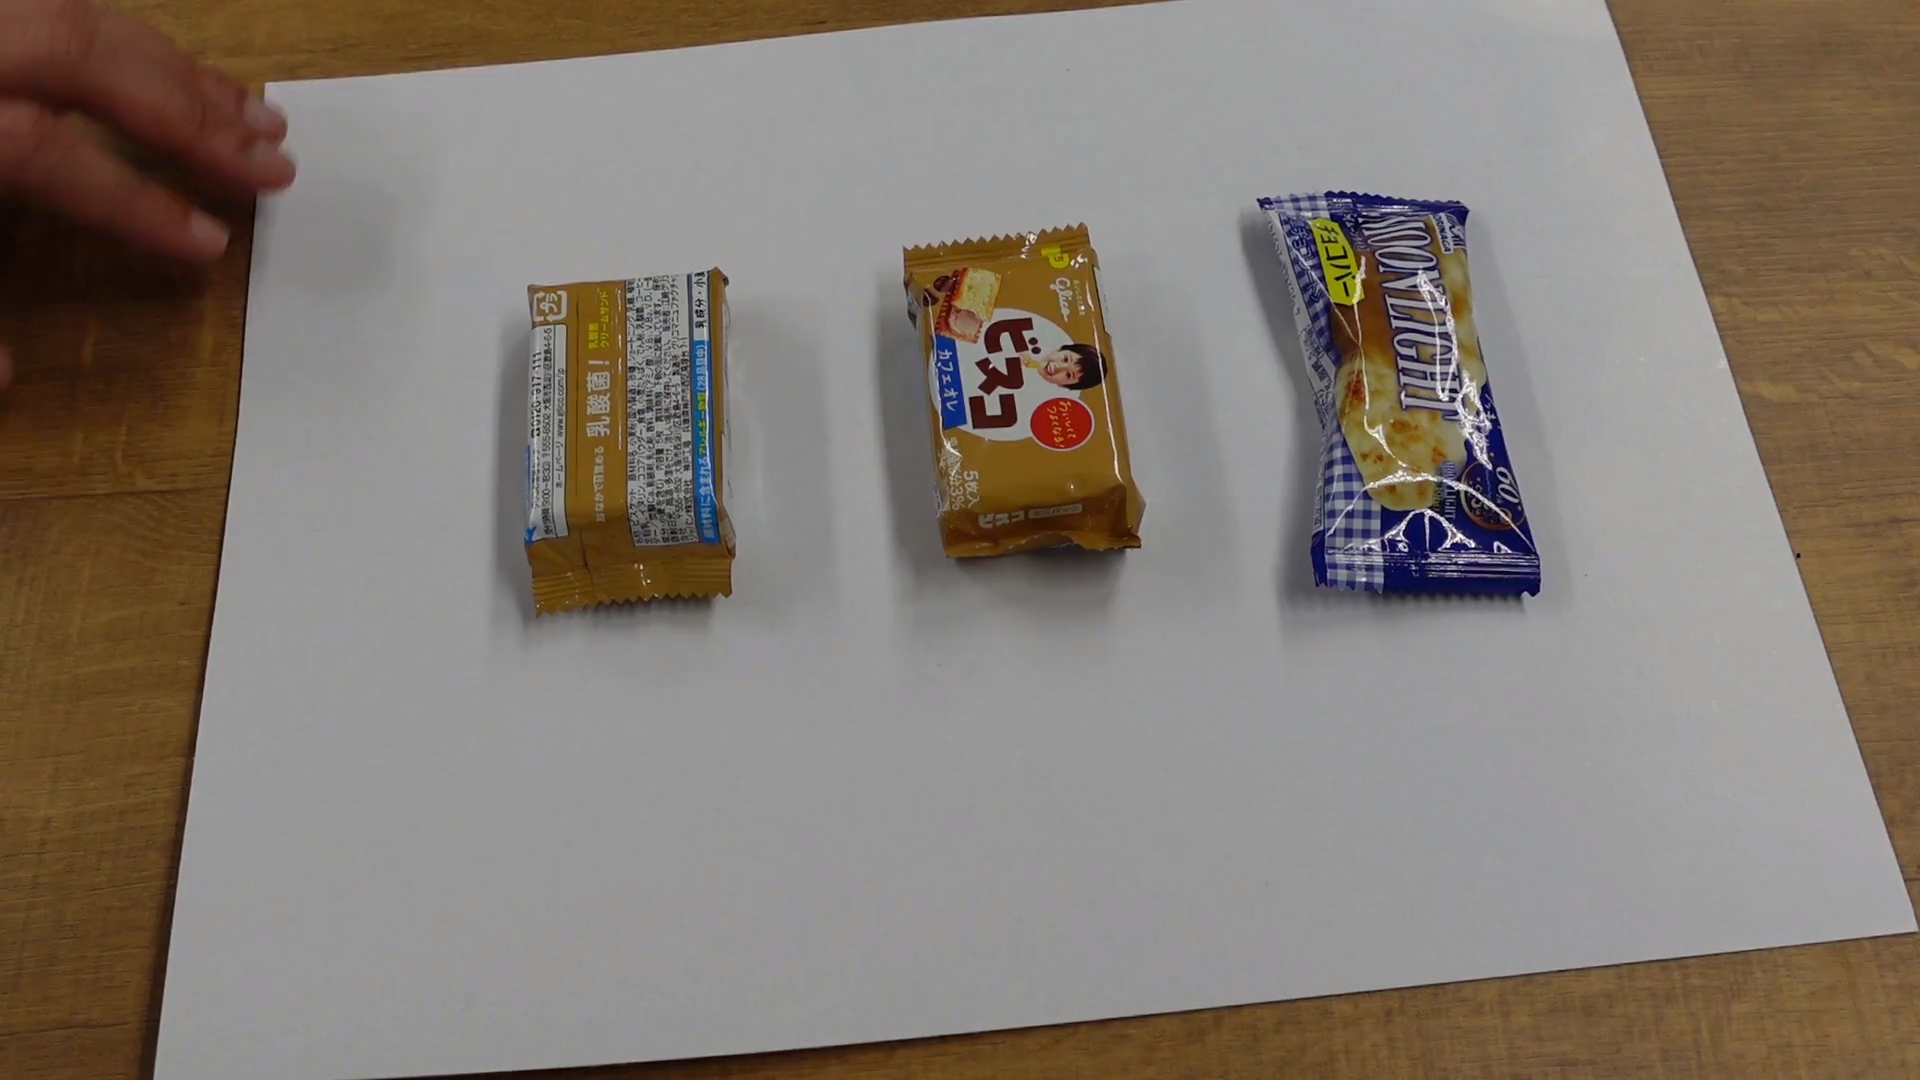BISCO_CafeAuLet: (905, 225, 1145, 555), (525, 266, 735, 613)
